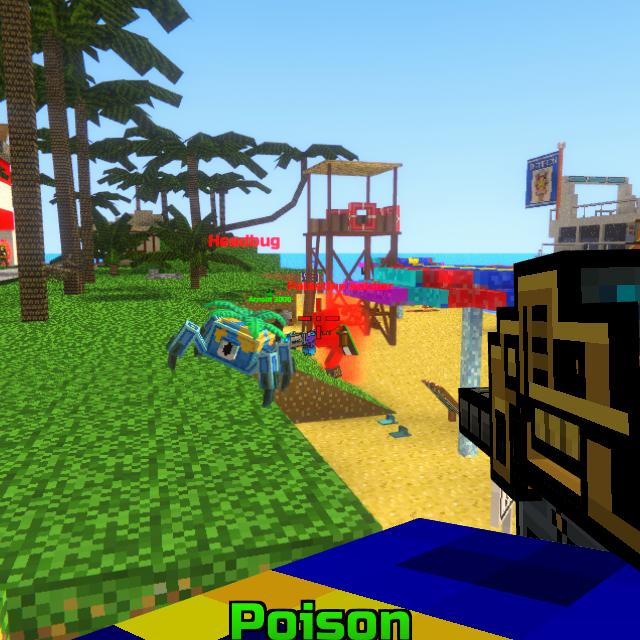Enemy: (316, 304, 361, 381)
